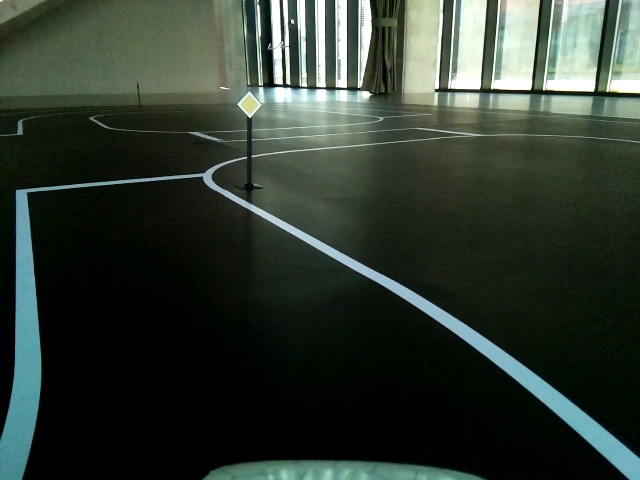priority: (236, 93, 261, 118)
